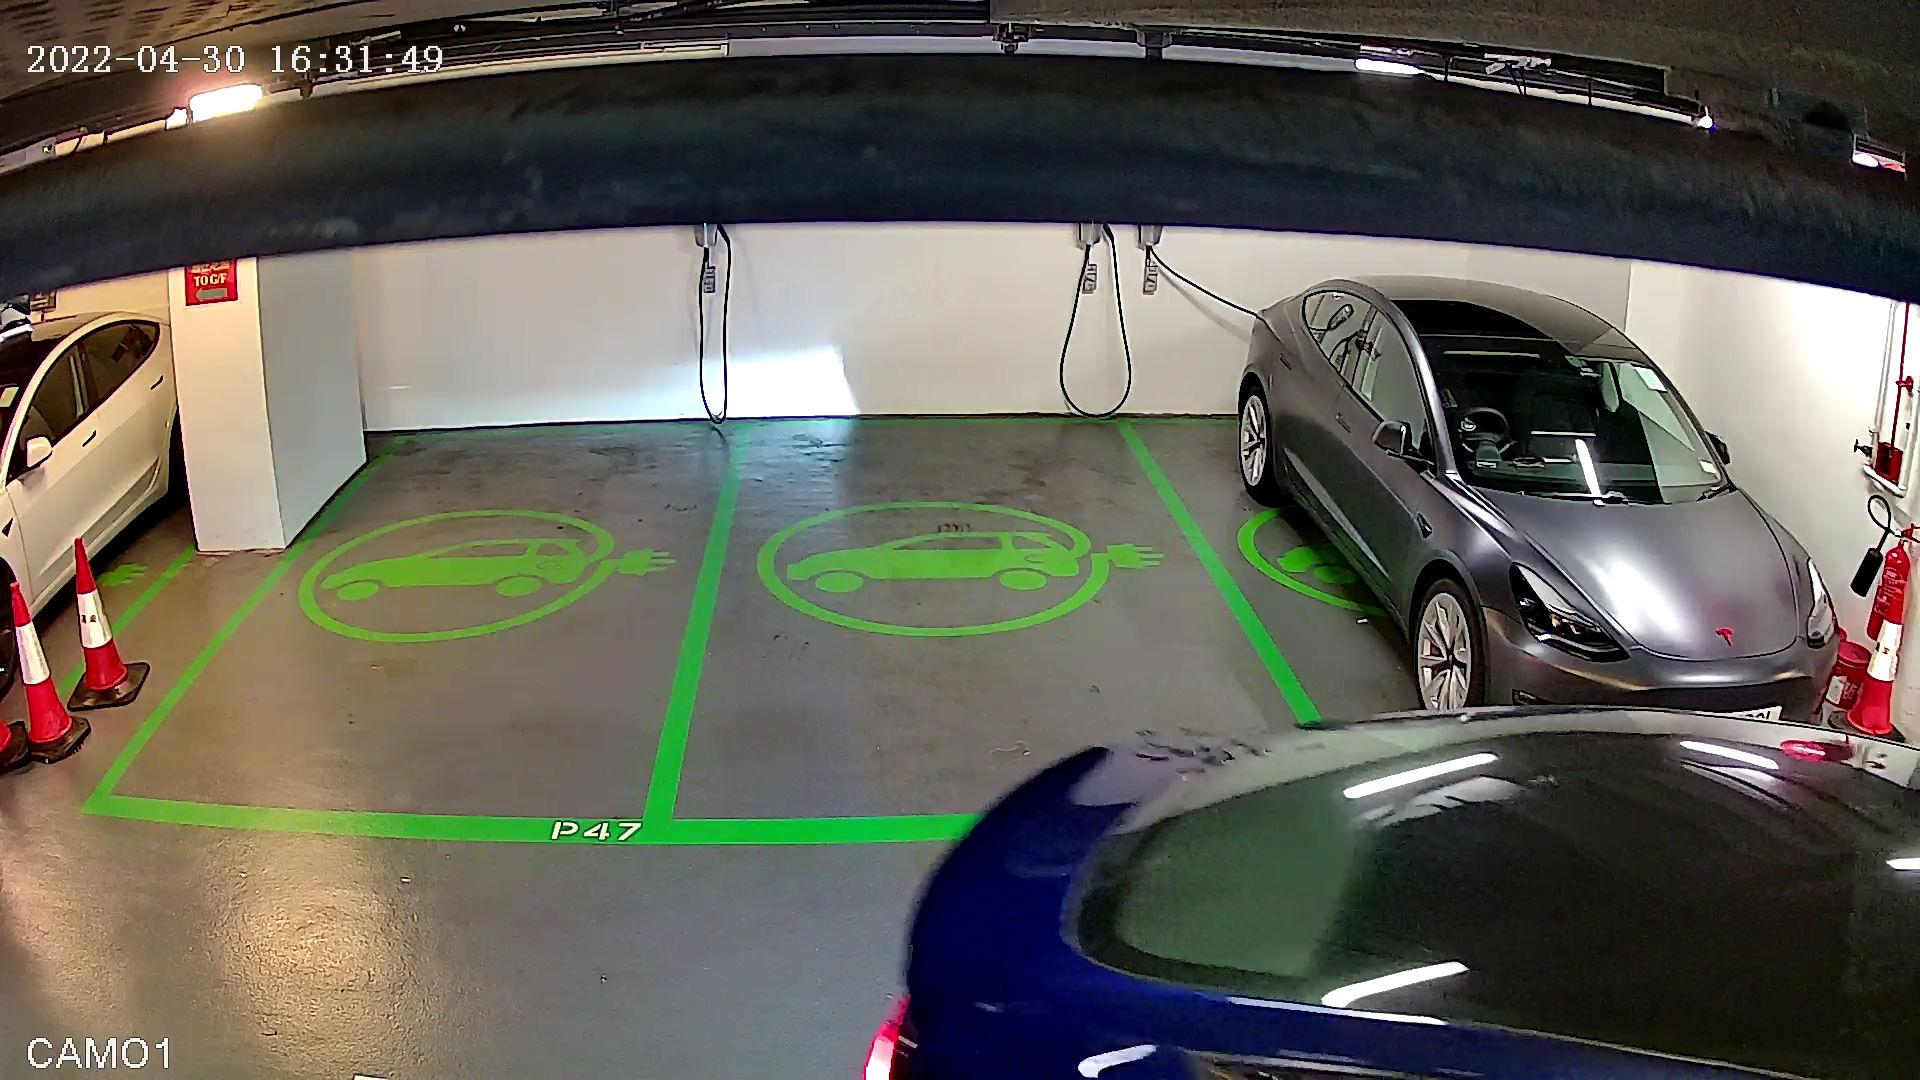car: (1209, 258, 1879, 757)
space: (604, 361, 1389, 911), (55, 382, 766, 894)
